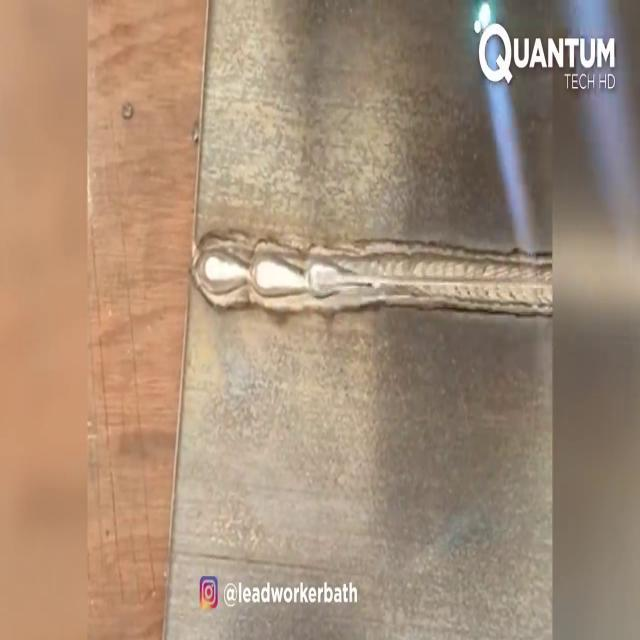Excess Reinforcement: (252, 253, 308, 298), (199, 251, 255, 296), (309, 253, 353, 297)
Good Welding: (196, 242, 544, 316)
